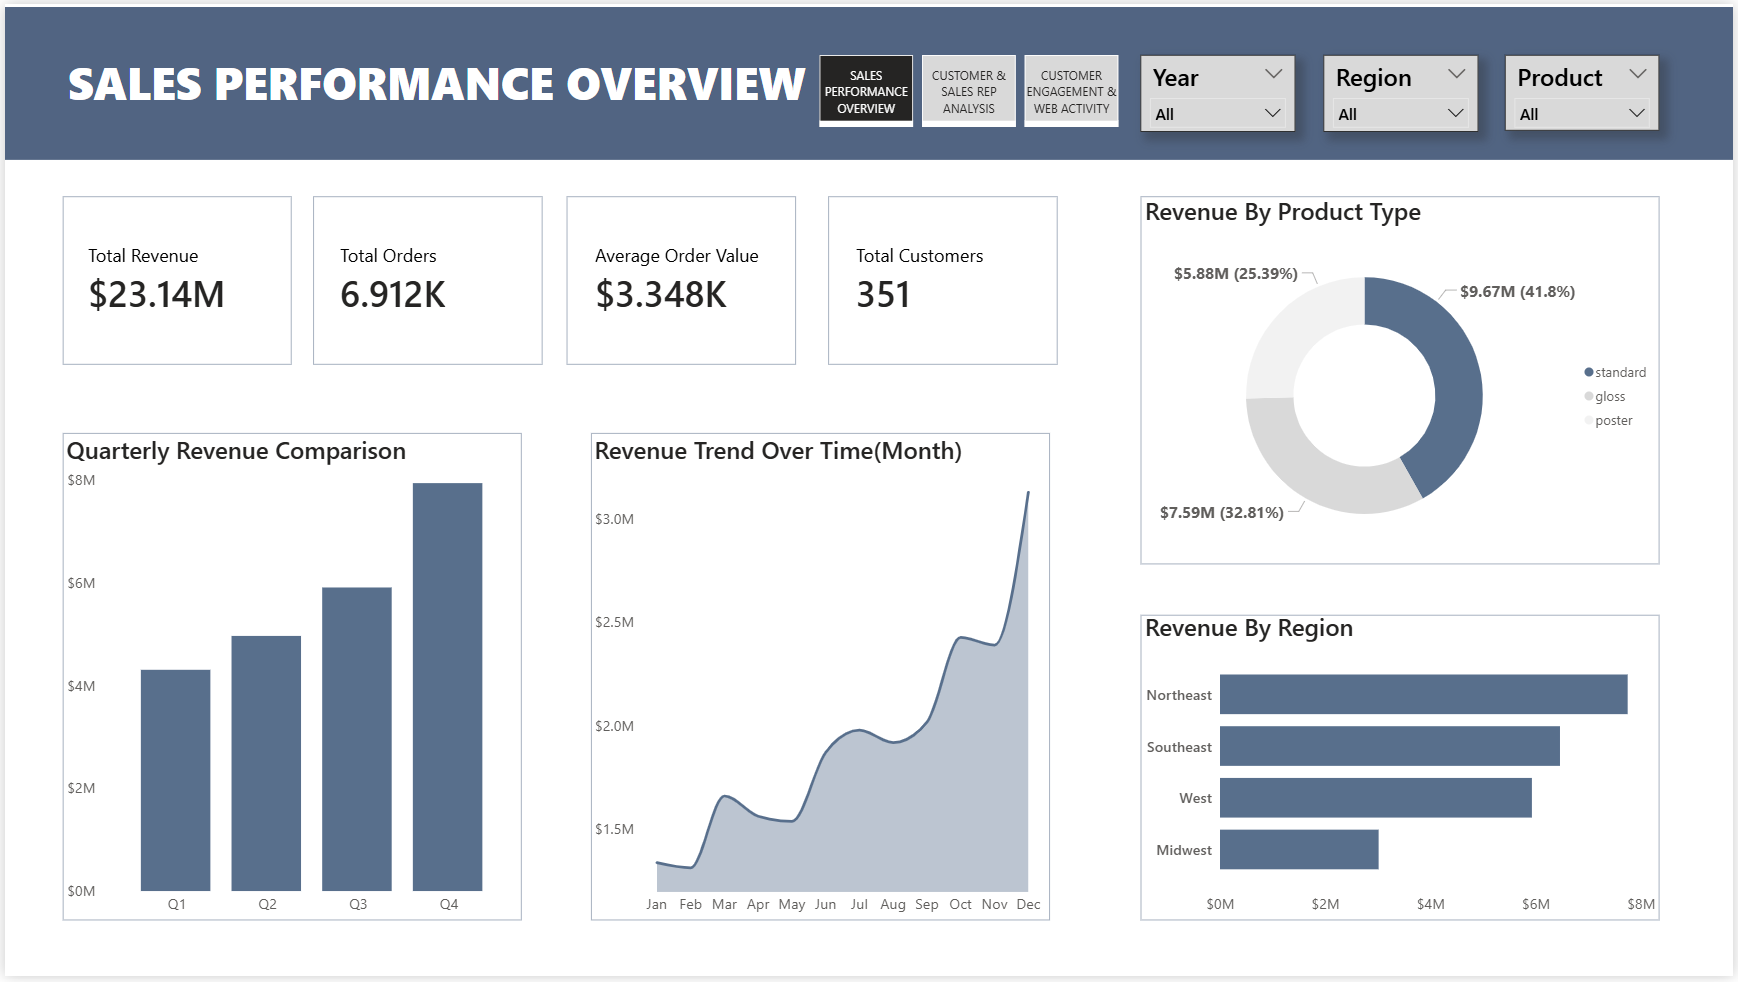

This screenshot's page, from the dashboard's own definition file:
{"tool":"powerbi","page":{"name":"SALES PERFORMANCE OVERVIEW","canvas":[1920,1080],"ordinal":0},"visuals":[{"type":"cardVisual","fields":{"Data":["dax_measures.Total Revenue"]},"box":[63.1,212.3,256.9,189.2],"z":0},{"type":"cardVisual","fields":{"Data":["dax_measures.Total Orders"]},"box":[343.1,212.3,252.3,189.2],"z":1000},{"type":"cardVisual","fields":{"Data":["dax_measures.Average Order Value"]},"box":[626.2,212.3,250.8,189.2],"z":2000},{"type":"cardVisual","fields":{"Data":["dax_measures.Total Customers"]},"box":[916.9,212.3,252.3,189.2],"z":3000},{"type":"donutChart","title":"Revenue By Product Type","fields":{"Y":["dax_measures.Total Revenue"],"Category":["orders.Product"]},"box":[1261.5,212.3,576.9,410.8],"z":4000},{"type":"clusteredColumnChart","title":"Quarterly Revenue Comparison","fields":{"Y":["dax_measures.Total Revenue"],"Category":["Calender Table.Quarter_Name"]},"box":[63.1,476.9,515.4,544.6],"z":5000},{"type":"lineChart","title":"Revenue Trend Over Time(Month)","fields":{"Y":["dax_measures.Total Revenue"],"Category":["orders.Order Month"]},"box":[650.8,476.9,507.7,544.6],"z":6000},{"type":"clusteredBarChart","title":"Revenue By Region","fields":{"Y":["dax_measures.Total Revenue"],"Category":["region.name"]},"box":[1261.5,673.8,576.9,347.7],"z":7000},{"type":"slicer","fields":{"Values":["orders.Product"]},"box":[1667.4,56.1,171.4,84.3],"z":8000},{"type":"slicer","fields":{"Values":["Calender Table.Year"]},"box":[1261.7,56.1,171.7,85],"z":9000},{"type":"slicer","fields":{"Values":["region.name"]},"box":[1464.5,56.1,171.7,85],"z":10000},{"type":"pageNavigator","box":[905,56.7,333.3,80],"z":11000}]}

Visuals, with their boxes in screenshot pixels (x1, y1, x2, y2), scaled from the page's 1920x1080 canvas onto the 1738x982 screenshot:
cardVisual - dax_measures.Total Revenue: crop(57, 193, 290, 365)
cardVisual - dax_measures.Total Orders: crop(311, 193, 539, 365)
cardVisual - dax_measures.Average Order Value: crop(567, 193, 794, 365)
cardVisual - dax_measures.Total Customers: crop(830, 193, 1058, 365)
"Revenue By Product Type" donutChart: crop(1142, 193, 1664, 567)
"Quarterly Revenue Comparison" clusteredColumnChart: crop(57, 434, 524, 929)
"Revenue Trend Over Time(Month)" lineChart: crop(589, 434, 1049, 929)
"Revenue By Region" clusteredBarChart: crop(1142, 613, 1664, 929)
slicer - orders.Product: crop(1509, 51, 1664, 128)
slicer - Calender Table.Year: crop(1142, 51, 1298, 128)
slicer - region.name: crop(1326, 51, 1481, 128)
pageNavigator: crop(819, 52, 1121, 124)
